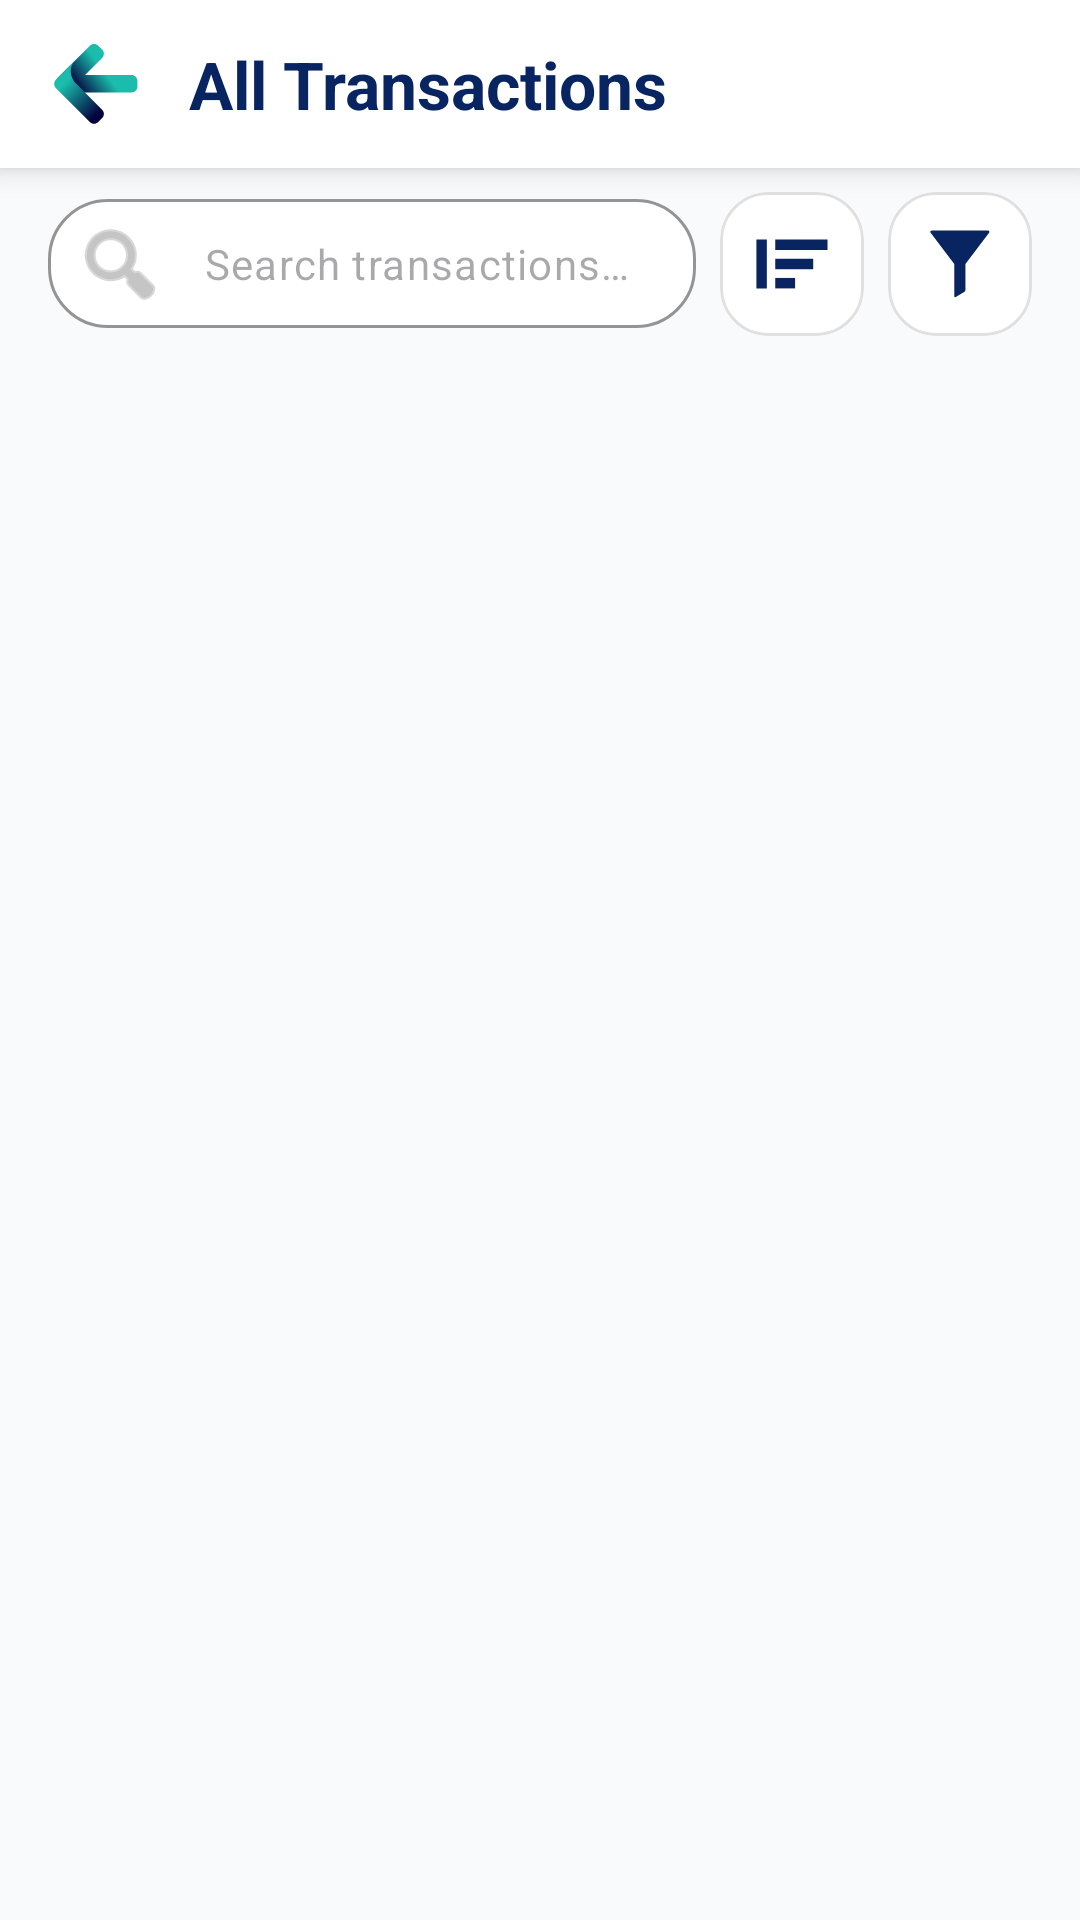

Where to tap for icons on this 1080px×1920px app screen, as [x,y]:
back: [96,84]
filter: [960,264]
sort: [792,264]
